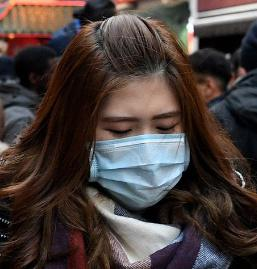OK: (96, 101, 187, 211)
